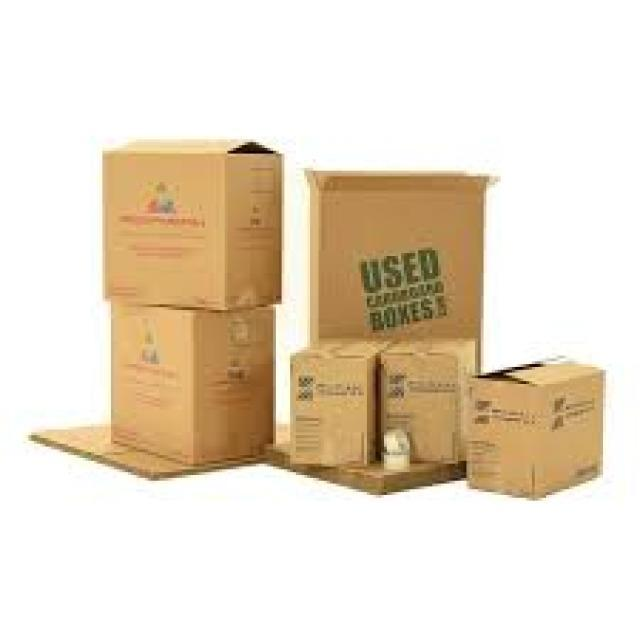Cardboard: (307, 164, 490, 348), (103, 143, 285, 307), (109, 302, 278, 464)
